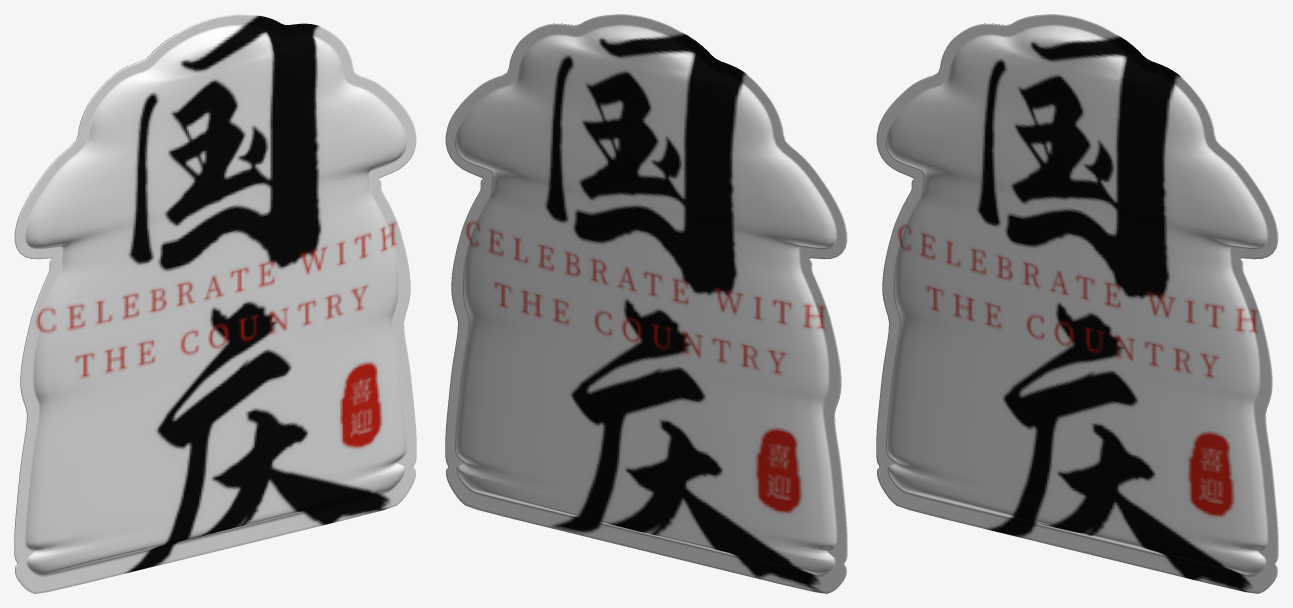
The picture shows the model from 3 angles, left to right: view 1: azimuth 30°, elevation 25°; view 2: azimuth 150°, elevation 25°; view 3: azimuth 330°, elevation 25°; orthographic projection.
Parts seen in each view (by area): view 1: 贴图; view 2: 贴图; view 3: 贴图.
Part boxes in pixels (<box>): 贴图: <box>14,14,416,593</box>; 贴图: <box>445,14,847,593</box>; 贴图: <box>876,14,1278,593</box>.
Size of the model in its own units: 150 by 190 by 10.7.
Materials: 1 (1 with a texture image).
